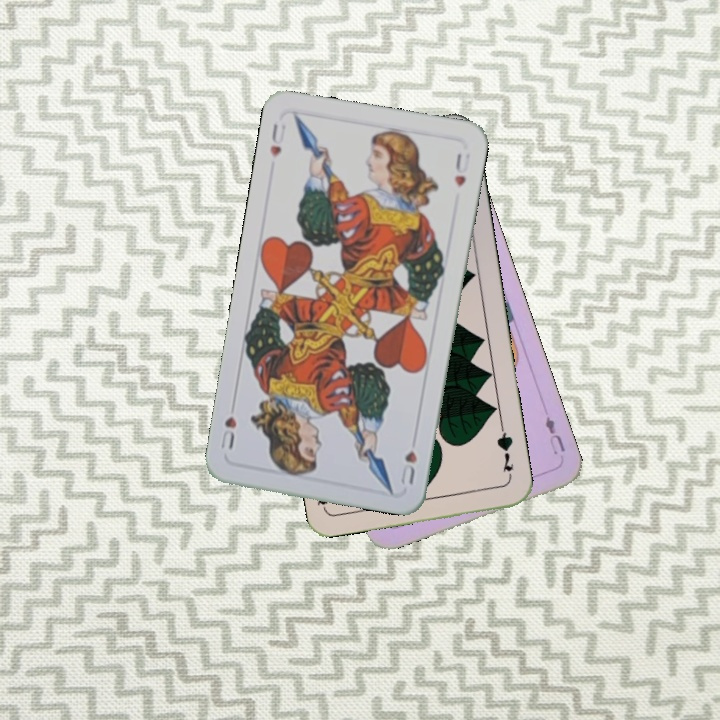EU: (541, 412, 568, 458)
G7: (492, 423, 517, 483)
HU: (396, 446, 420, 488), (266, 119, 288, 160)
